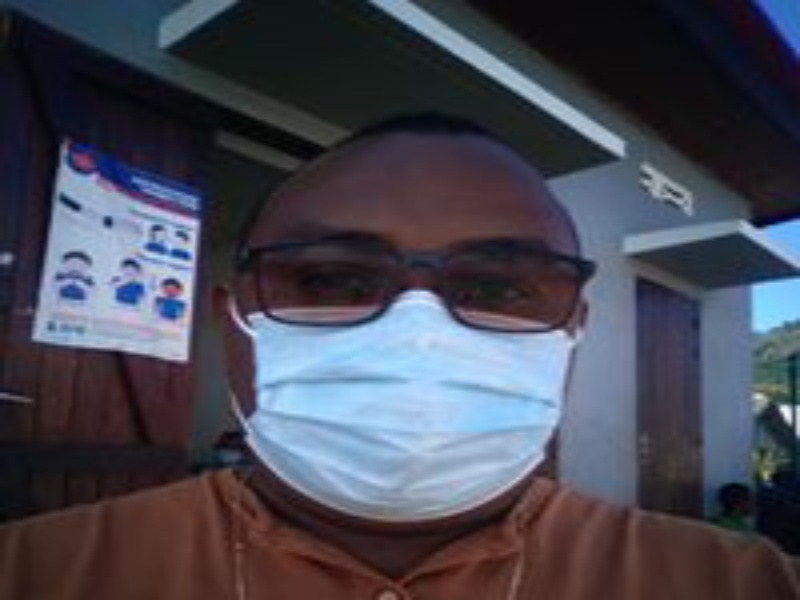ManaoArotava: (219, 133, 598, 538)
